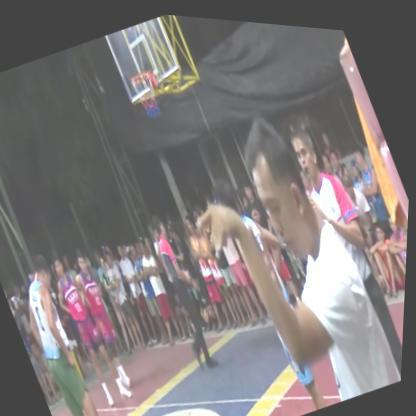rim: (123, 54, 175, 126)
